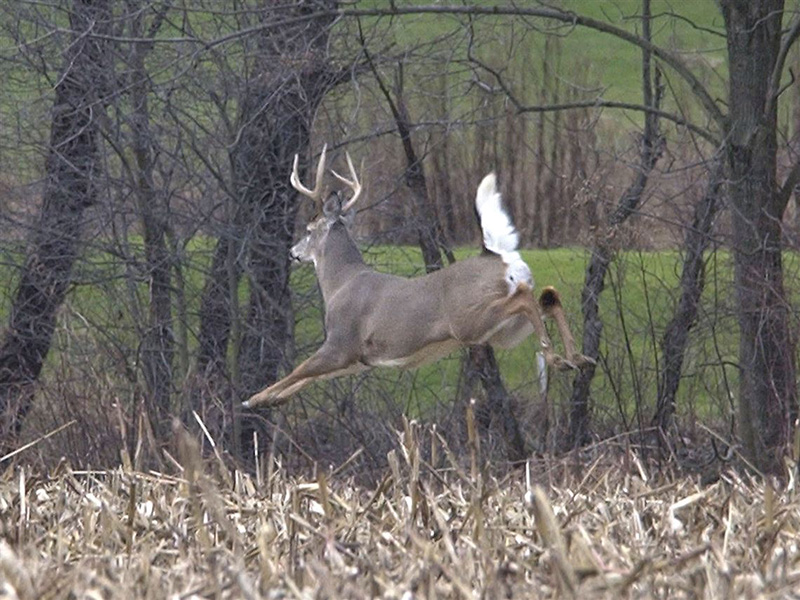cervo: (233, 146, 594, 421)
